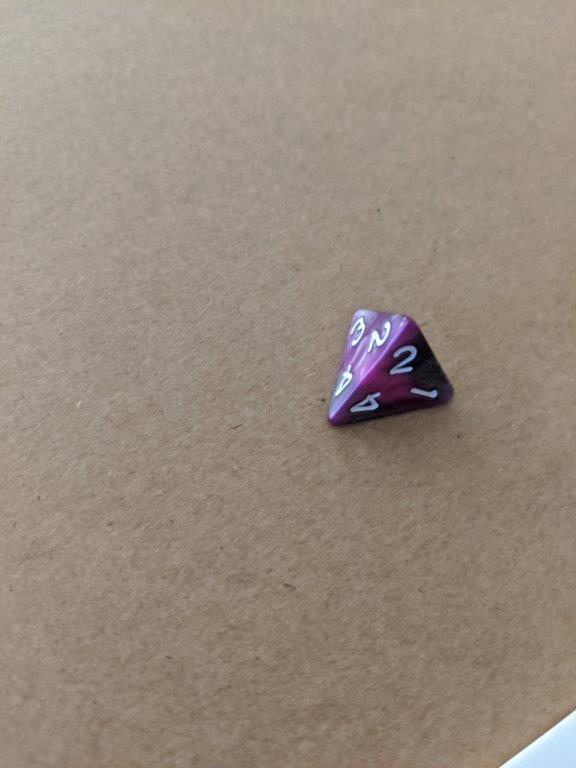d4-2: (322, 302, 456, 432)
